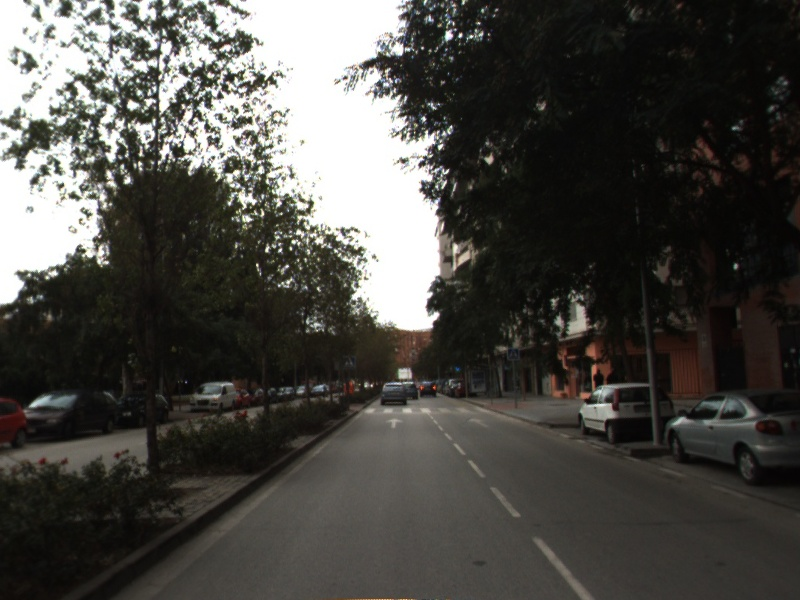STRAIGHT: (465, 416, 493, 430), (382, 416, 407, 430)
